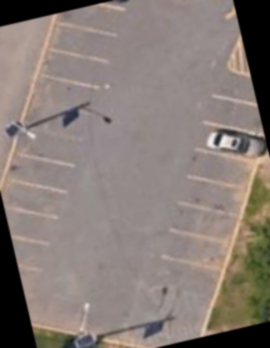parkingspot: (0, 0, 139, 326), (155, 64, 268, 275)
